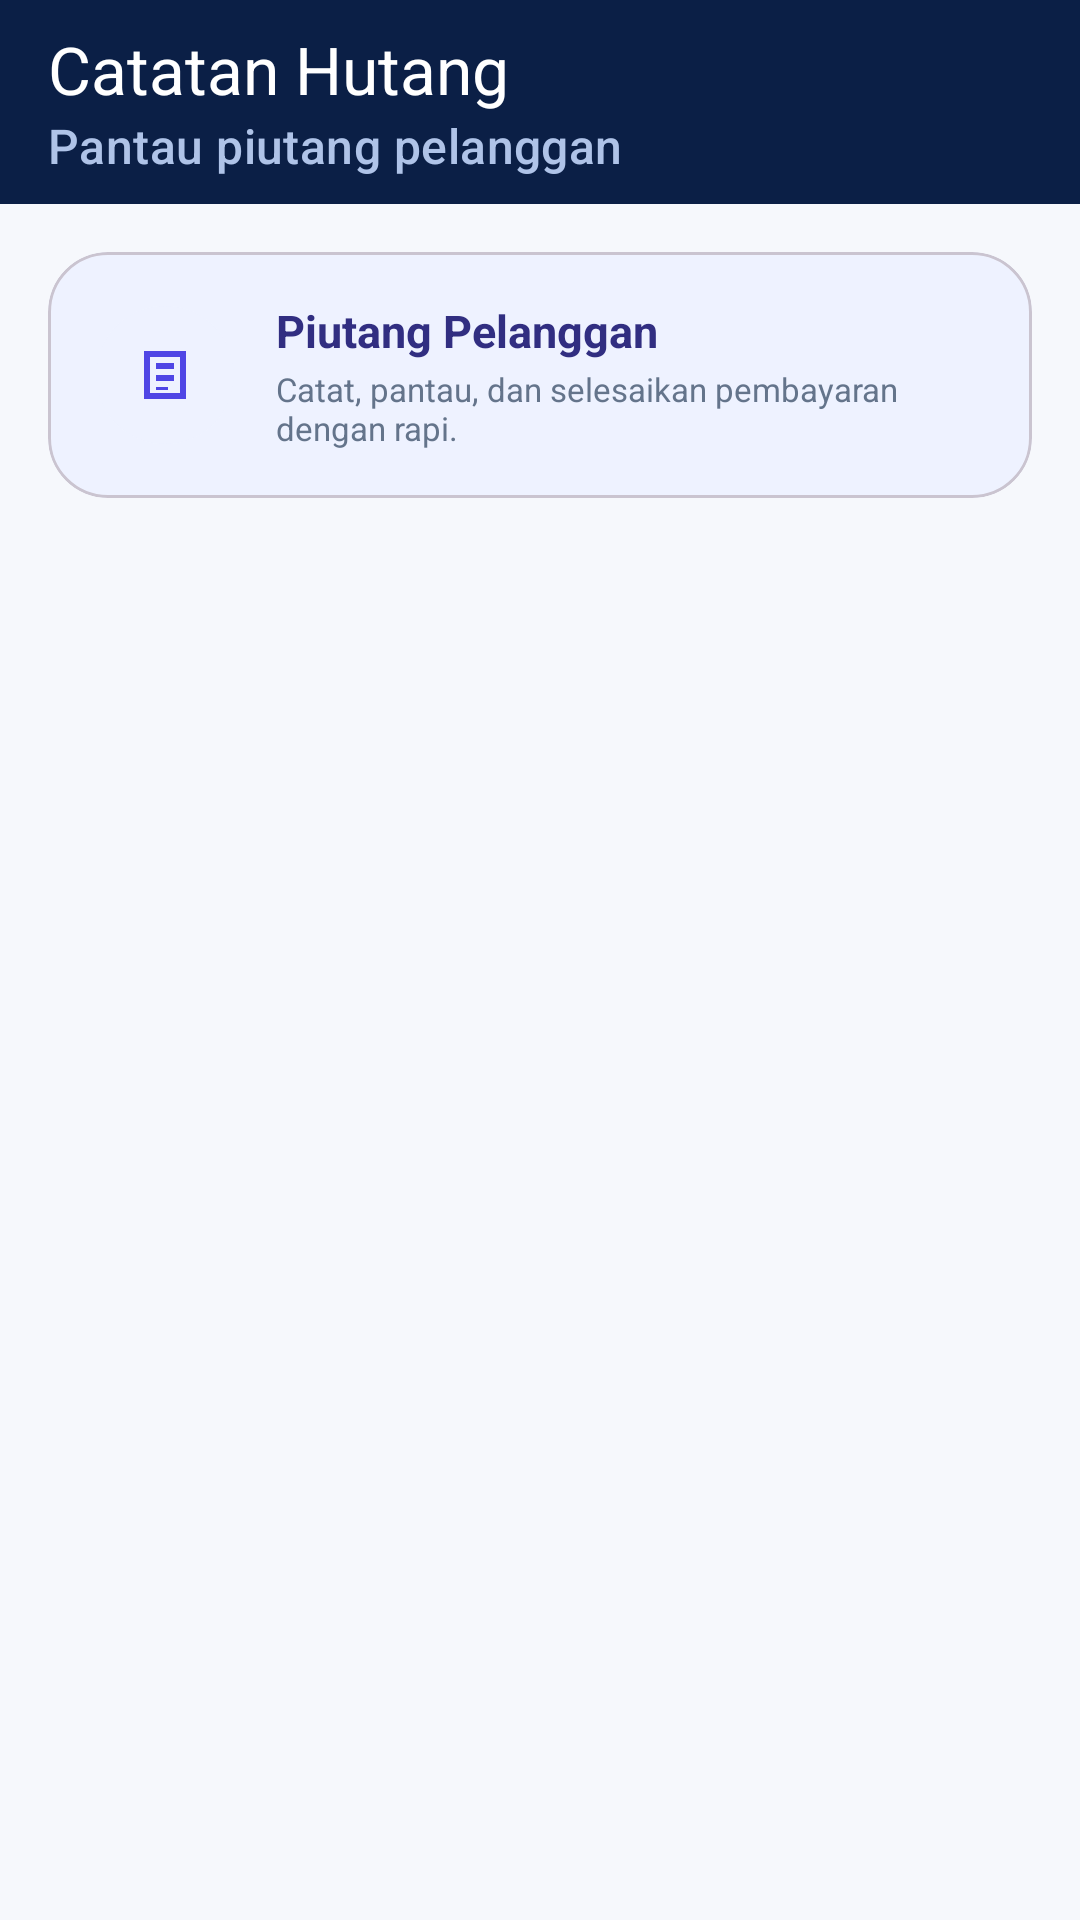

Locate icon controls on the screen. Image size 1080w x 1920h, boxes as (x1, y1, x2, y2).
transactions: (144, 351, 186, 399)
